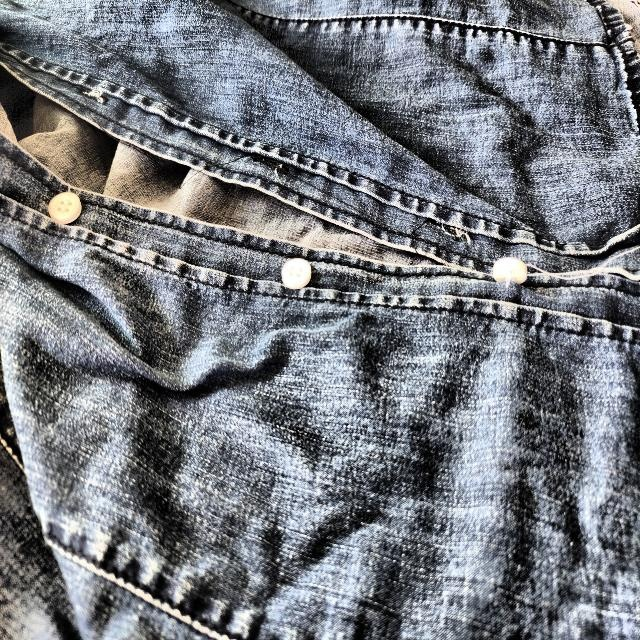seam: (0, 314, 55, 496)
